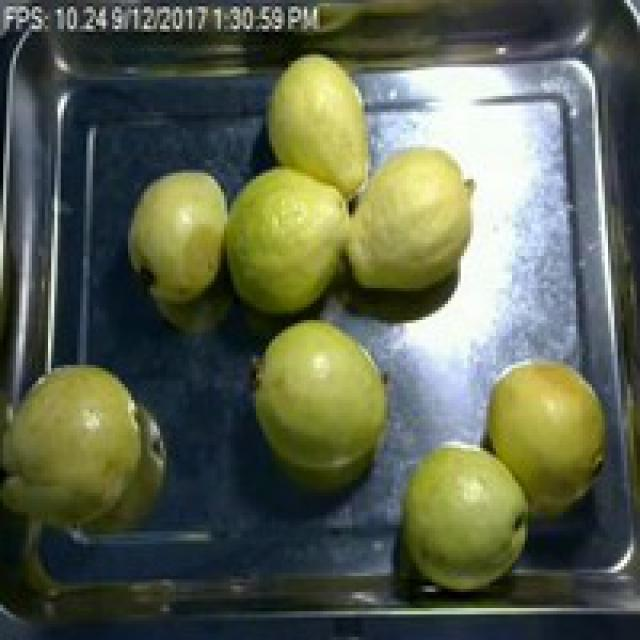Fruit: (0, 352, 173, 570), (244, 304, 406, 493), (474, 342, 620, 532), (384, 429, 541, 605), (339, 134, 490, 308), (224, 154, 355, 332), (256, 36, 384, 214), (119, 160, 228, 326)
